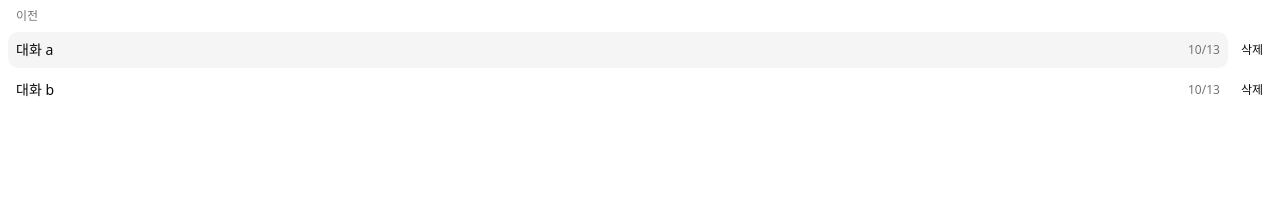
it: approval_pending displays the existing message under its item without removal
Click the button "삭제" in the row of "대화 a".
click(1252, 50)  # box [1232,38,1272,62]
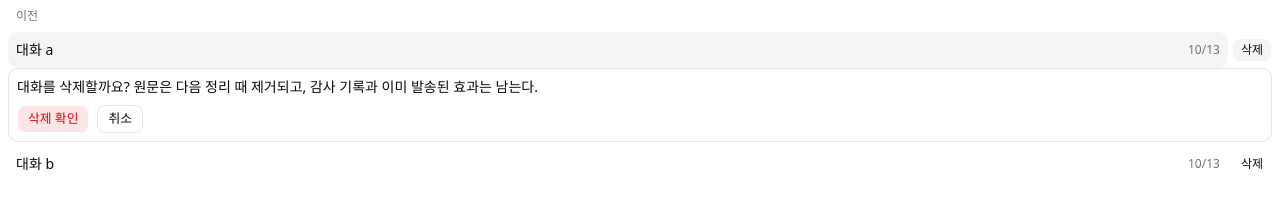
Click the button "삭제 확인".
click(53, 119)  # box [17,105,89,133]
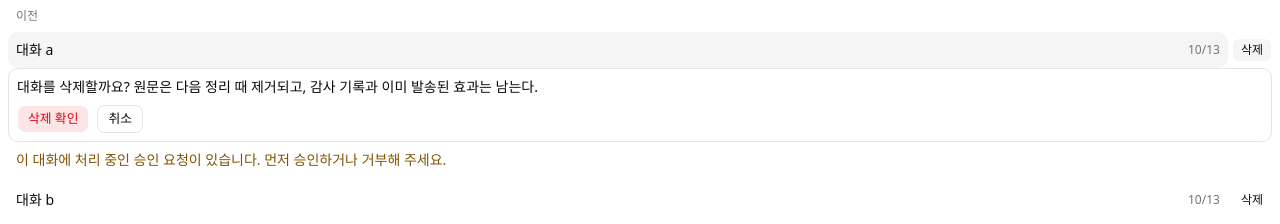
Expected: the message reads "이 대화에 처리 중인 승인 요청이 있습니다. 먼저 승인하거나 거부해 주세요.", [16,150,446,169]
